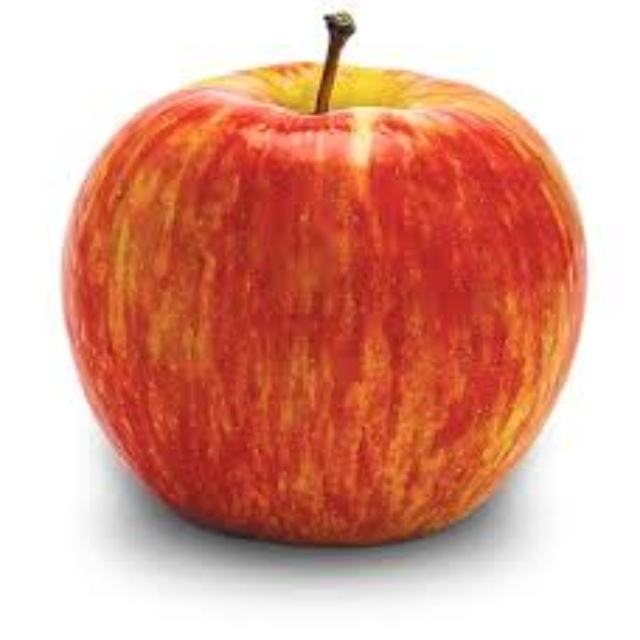tao: (66, 74, 580, 545)
